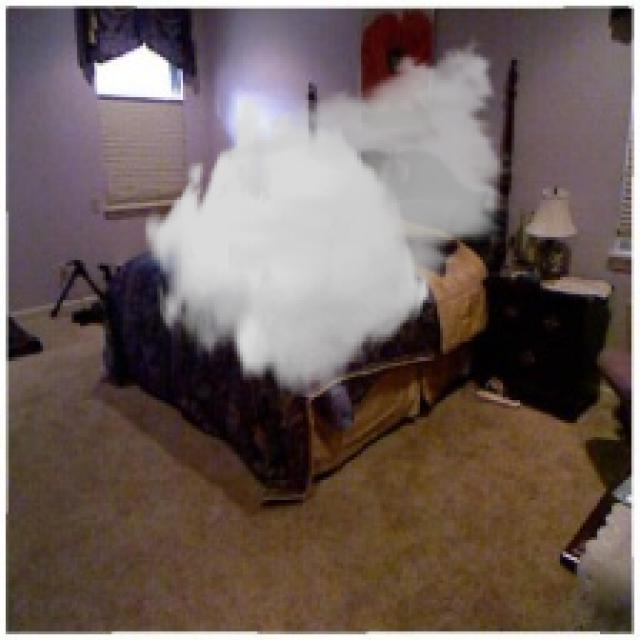smoke: (143, 32, 517, 397)
